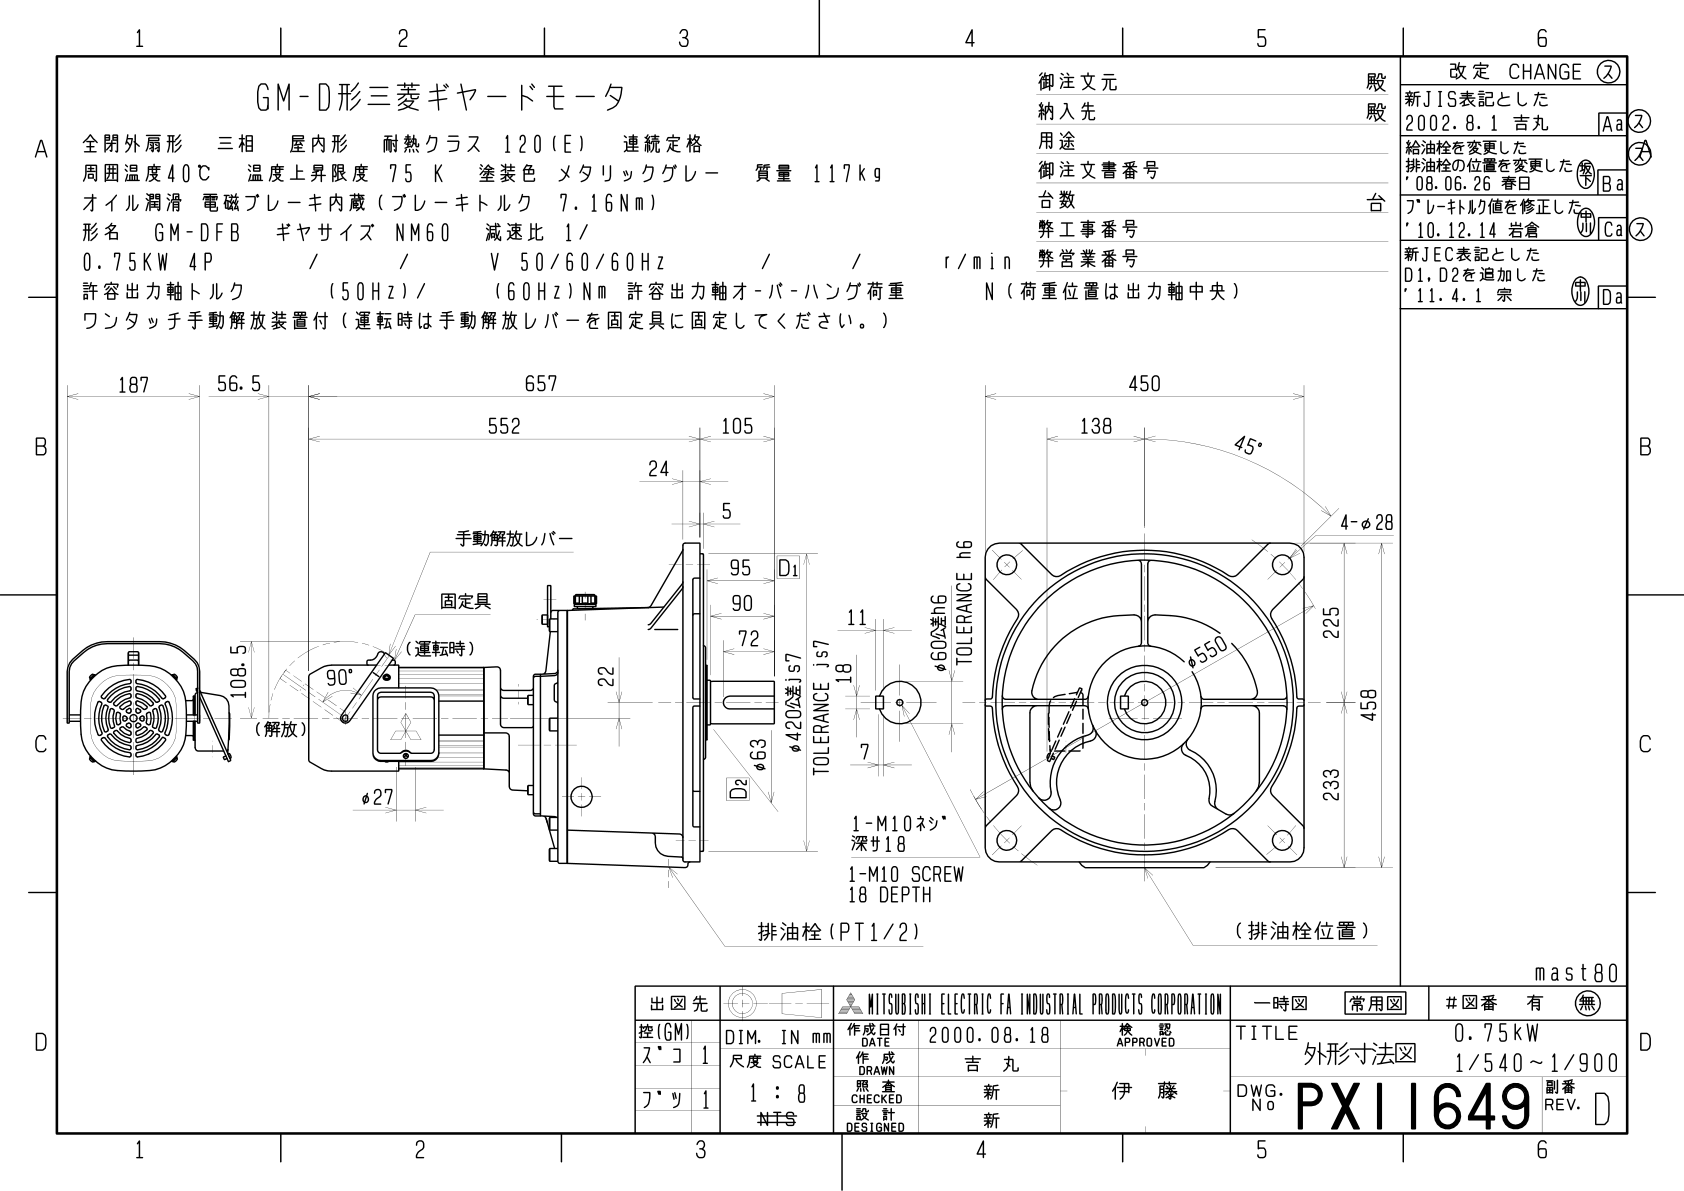GM_D_手動解放ブレーキ＿三相_フランジ: (13, 9, 1684, 1191)
